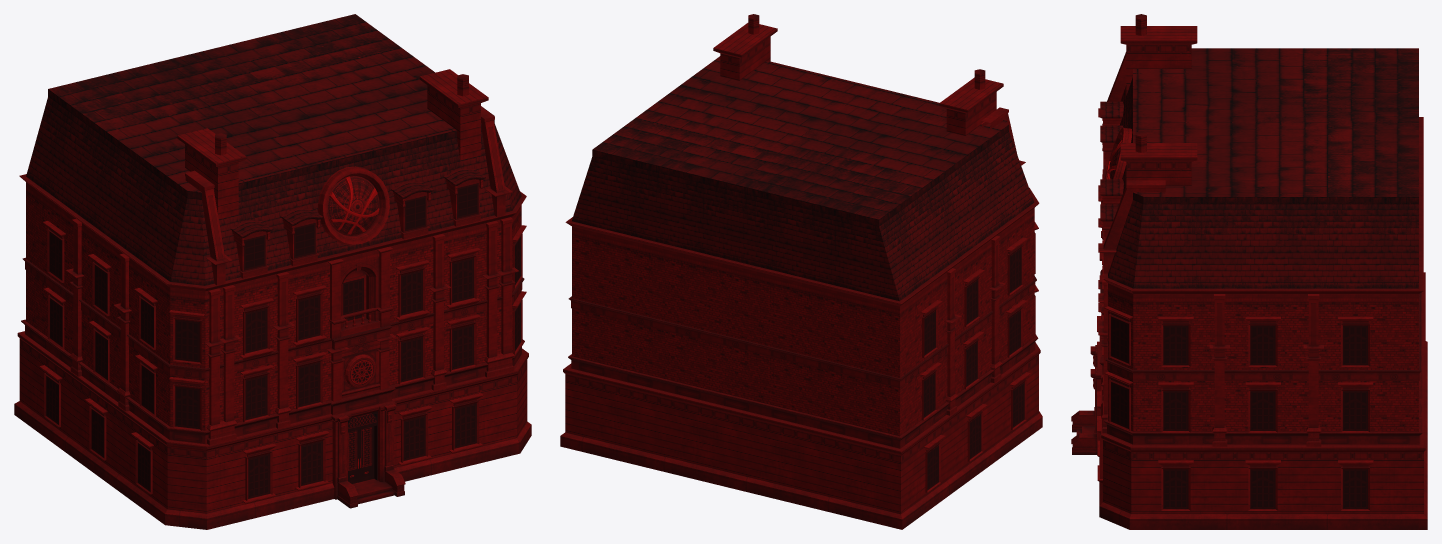
Rendered from sanctum.glb.
3 renders of one model, left to right at view 1: azimuth 30°, elevation 25°; view 2: azimuth 150°, elevation 25°; view 3: azimuth 270°, elevation 25°, orthographic. The views are drawn at different scales.
Visible parts, largest first — view 1: S_SC_E_Main_SanctumA01.mo; view 2: S_SC_E_Main_SanctumA01.mo; view 3: S_SC_E_Main_SanctumA01.mo.
Boxes of the visible parts, <box> form: S_SC_E_Main_SanctumA01.mo: <box>14,14,531,529</box>; S_SC_E_Main_SanctumA01.mo: <box>560,14,1042,529</box>; S_SC_E_Main_SanctumA01.mo: <box>1071,14,1427,529</box>.
Bounding box in the file's own units: 35.29 × 33.76 × 29.79.
Materials: 2 (2 with a texture image).
